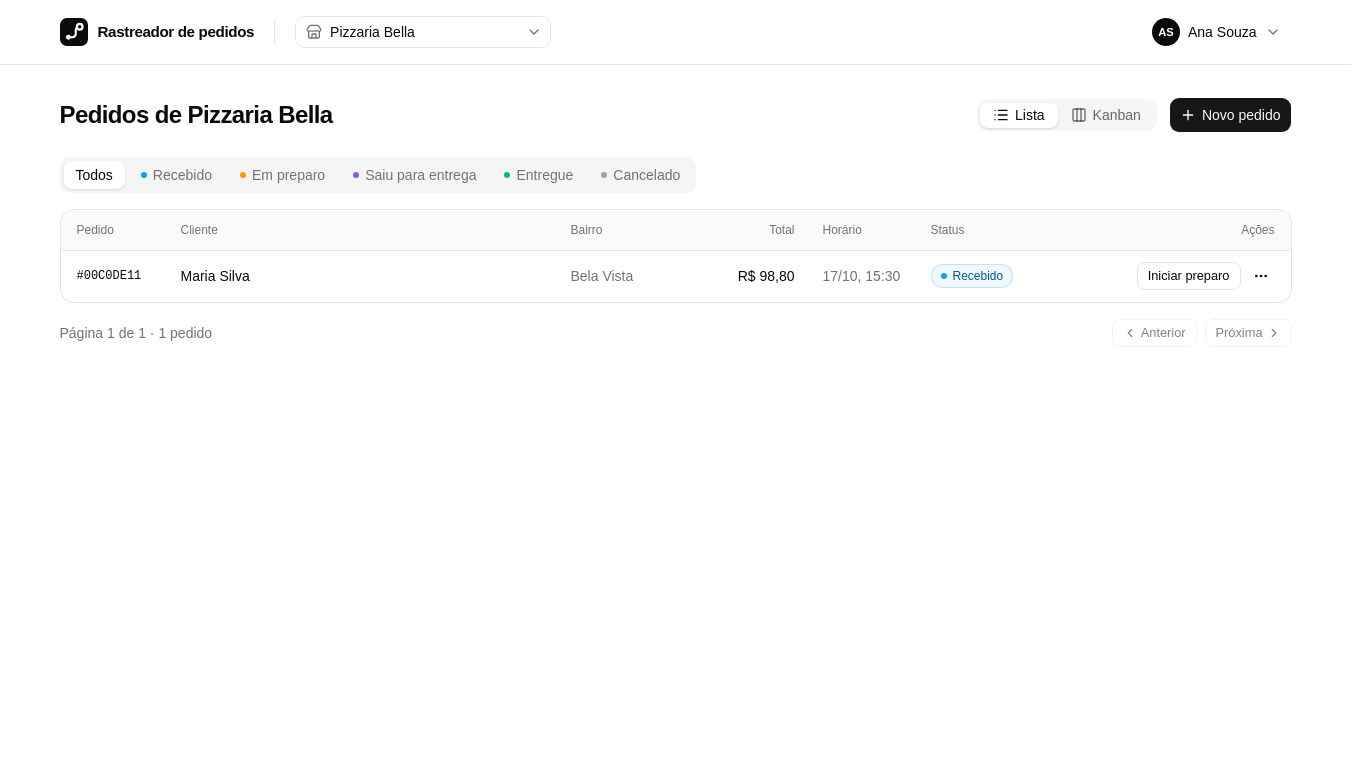
it: order list › cancels an order with the reason chosen in the dialog
What coordinates should you click on to do the following:
click the button named "Mais ações do pedido #00C0DE11"
I would click on:
 (1260, 276)
Its box is x1=1246 y1=262 x2=1274 y2=290.
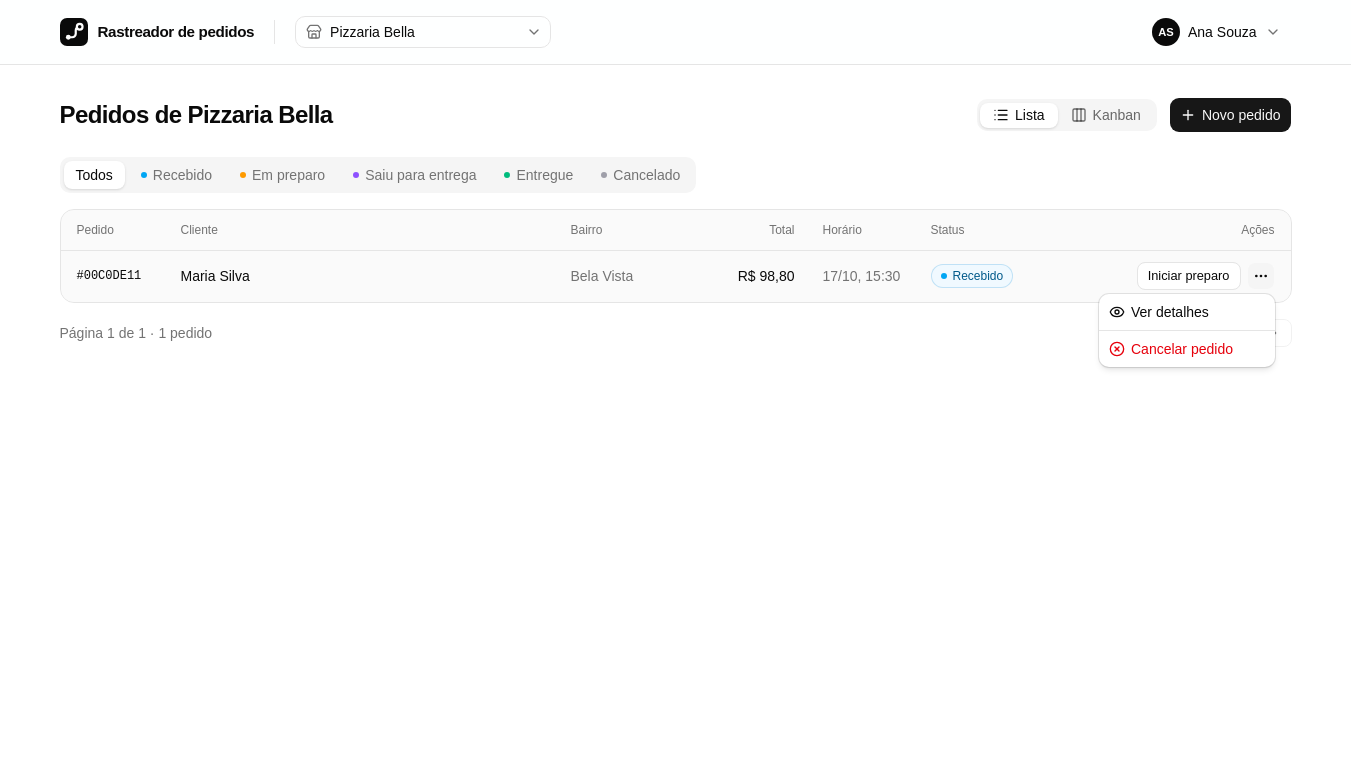
What coordinates should you click on to do the following:
click the menu item "Cancelar pedido"
I would click on:
 (1171, 349)
Its box is x1=1109 y1=341 x2=1233 y2=357.
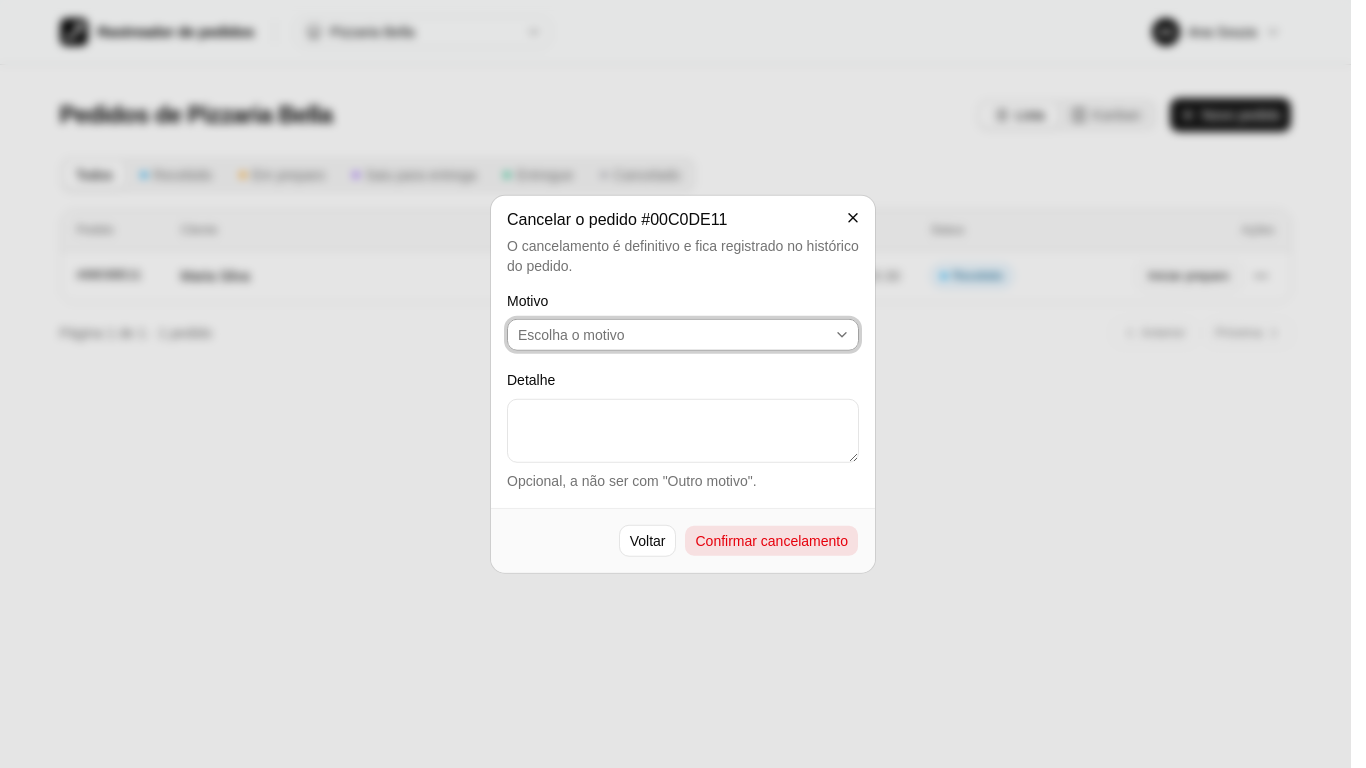
What coordinates should you click on to do the following:
click the dropdown labelled "motivo"
I would click on:
 (571, 335)
Its box is x1=507 y1=319 x2=859 y2=351.
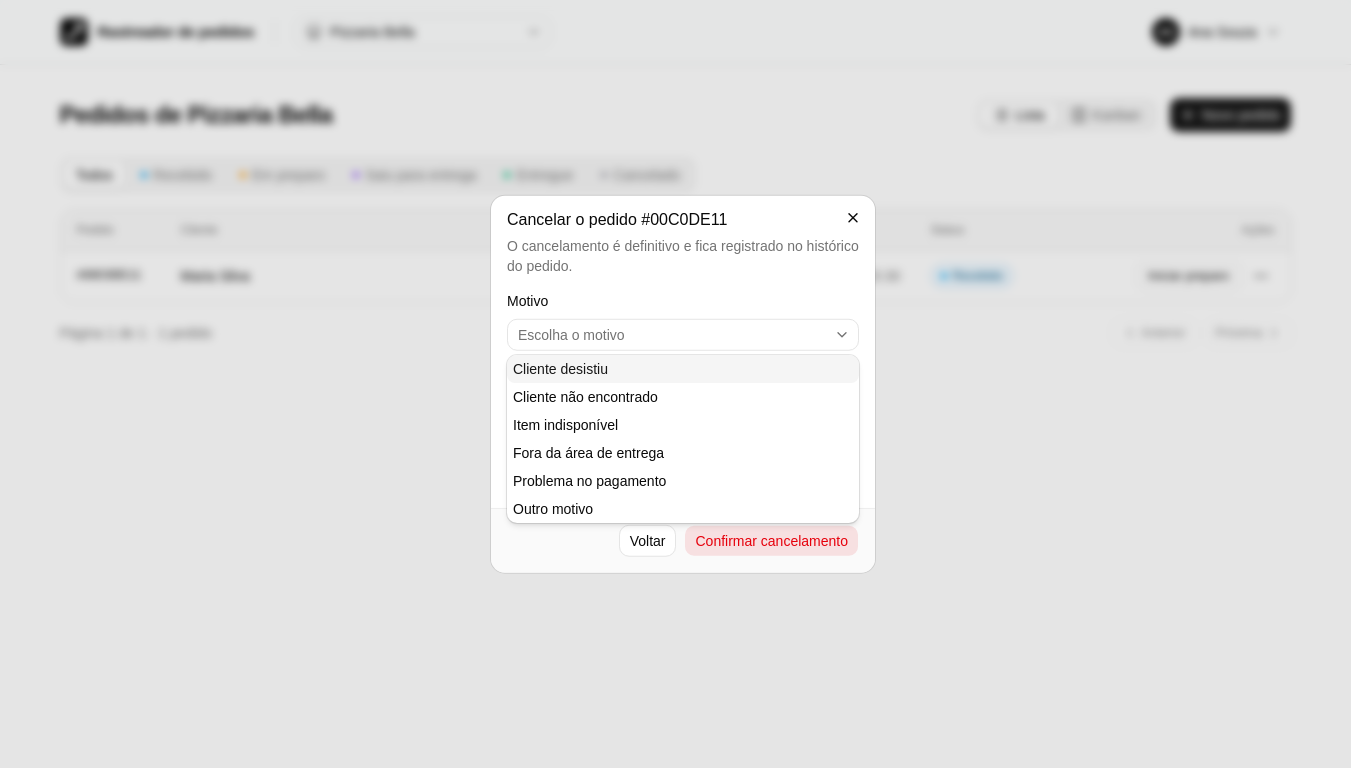
What coordinates should you click on to do the following:
click the option "Cliente desistiu"
I would click on:
 (560, 369)
Its box is x1=507 y1=355 x2=859 y2=383.
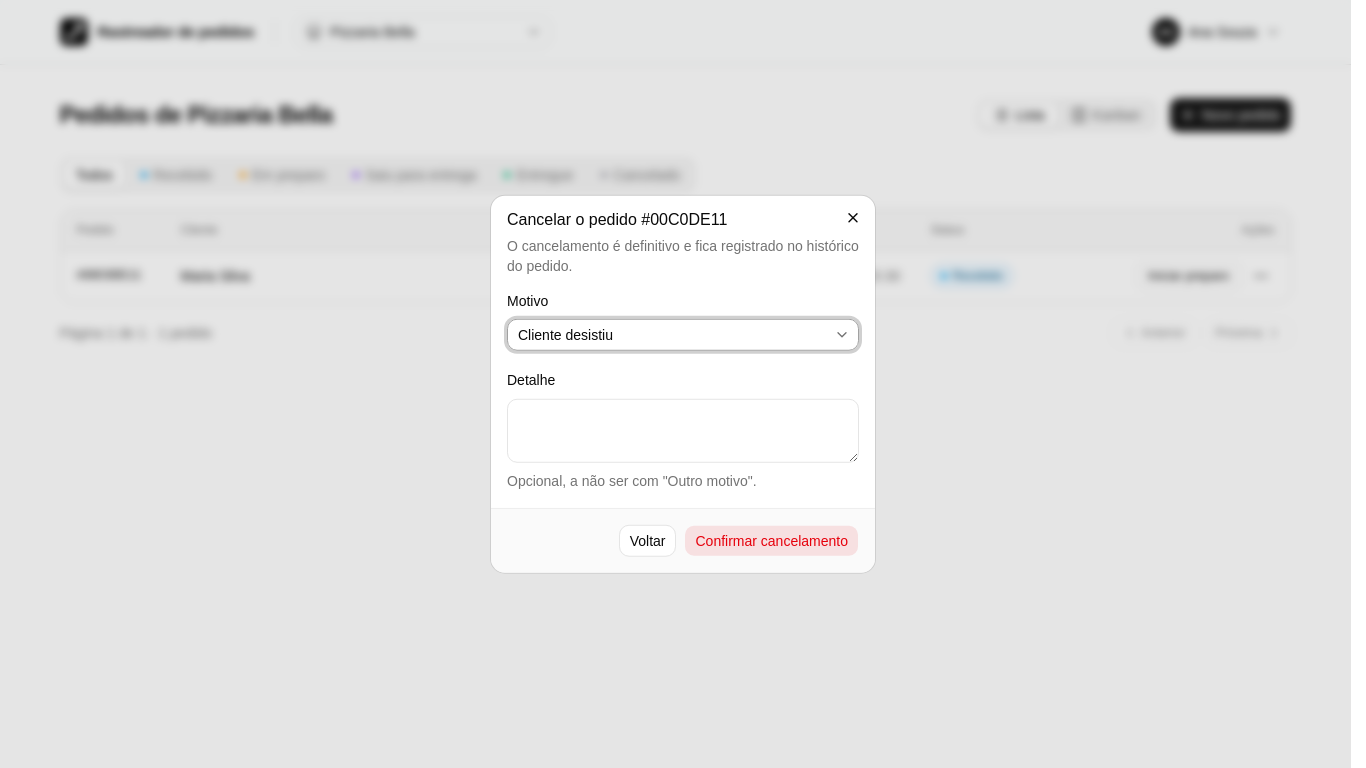
What coordinates should you click on to do the following:
click the button "Confirmar cancelamento"
I would click on:
 (772, 540)
Its box is x1=684 y1=524 x2=859 y2=556.
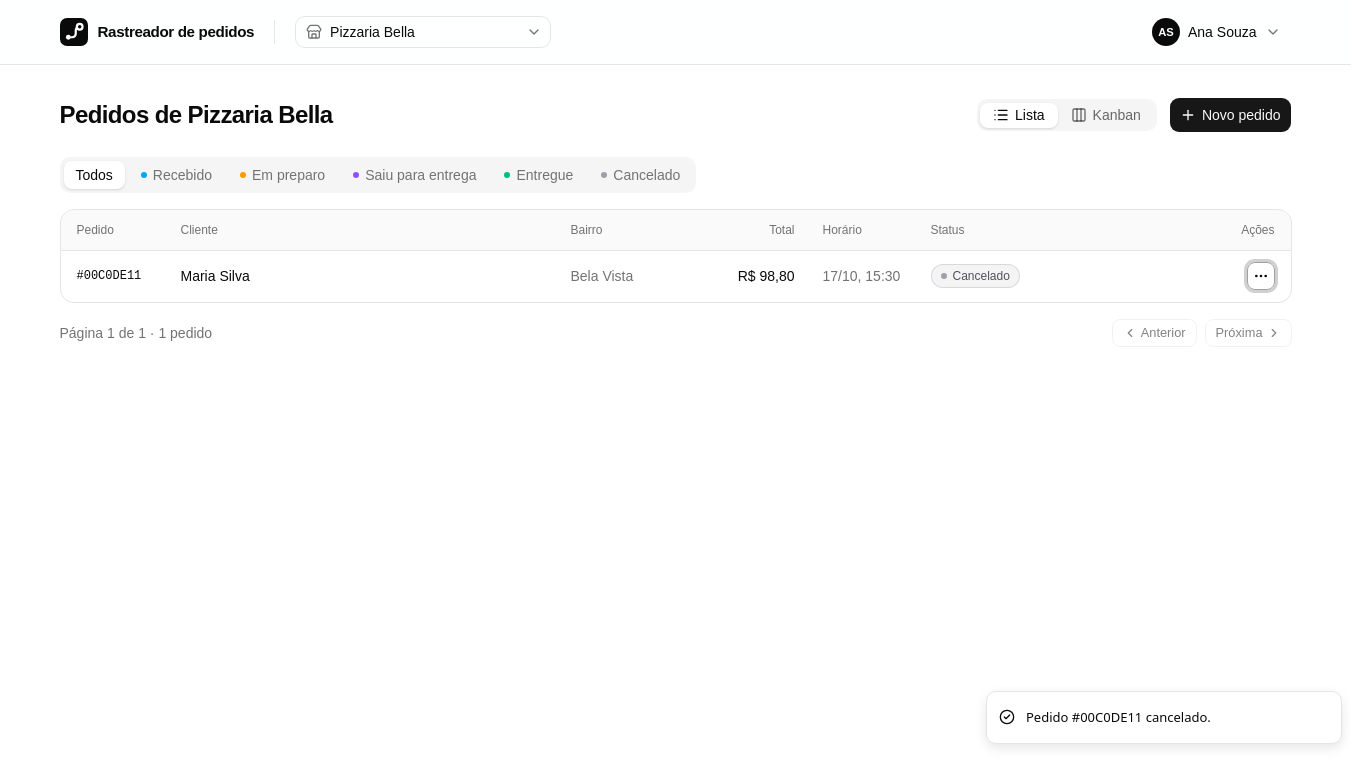
Expected: the text "Cancelado" is shown, x1=930 y1=264 x2=1020 y2=288
